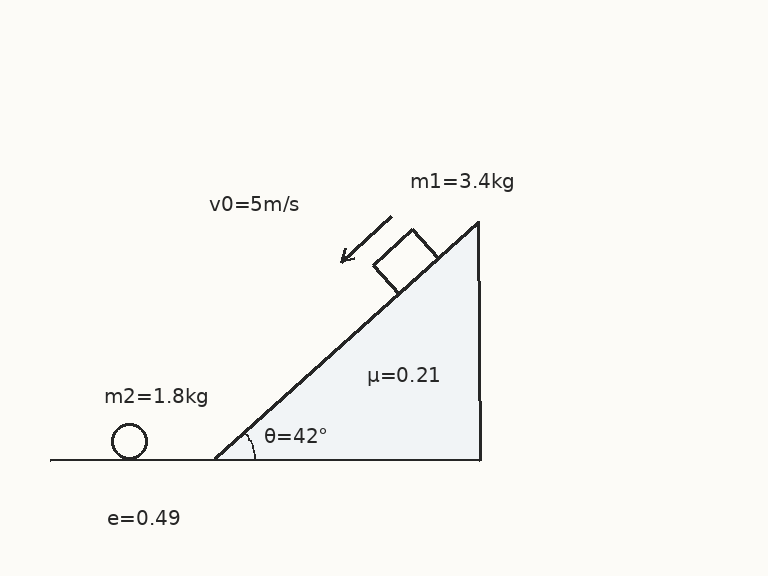ball: (109, 421, 149, 461)
block: (370, 227, 440, 296)
ramp: (213, 219, 481, 461)
